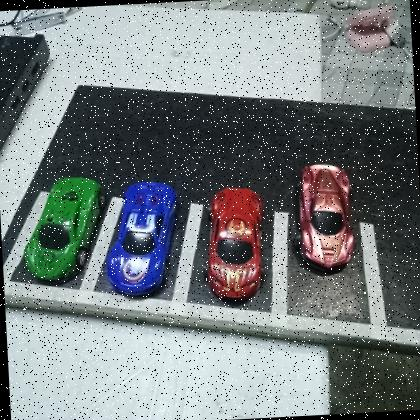Car: (19, 173, 110, 284), (103, 178, 183, 299), (197, 185, 268, 303), (288, 160, 358, 270)
